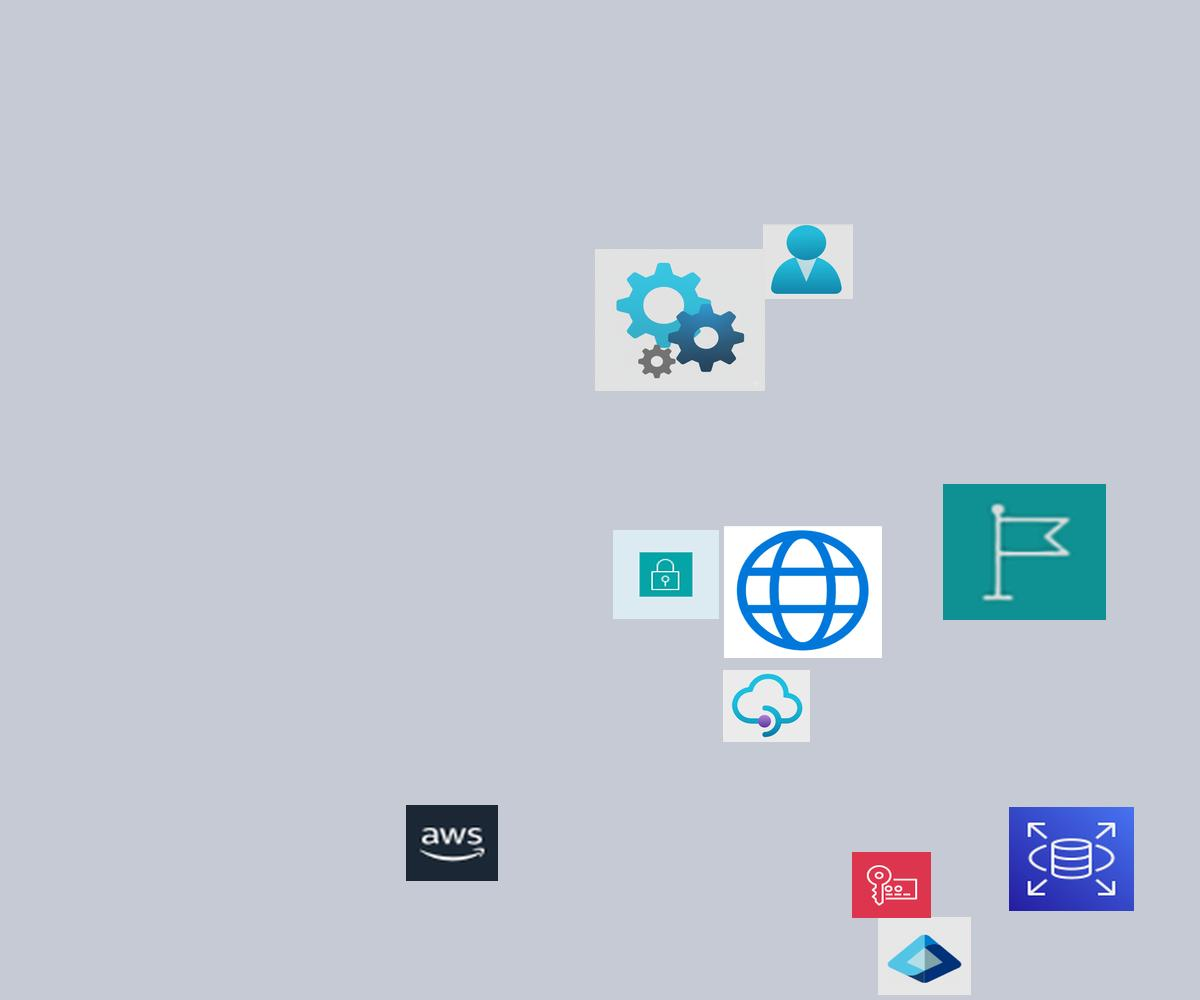AWS-Cloud-logo: (406, 805, 498, 881)
AWS-Key-Management-Service: (852, 852, 931, 918)
AWS-Private-subnet: (613, 530, 719, 619)
AWS-RDS: (1009, 807, 1134, 911)
AWS-Region: (943, 484, 1106, 620)
Azure_api: (595, 249, 765, 391)
Azure_api_gateway: (723, 670, 810, 742)
Azure_http: (724, 526, 882, 658)
Azure_microsoft_entra: (878, 917, 971, 995)
Azure_users: (763, 224, 853, 299)
